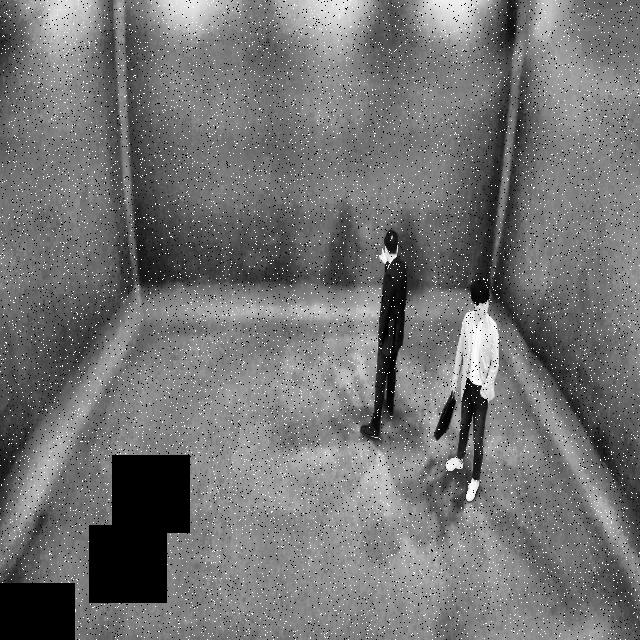assult: (335, 181, 501, 489)
